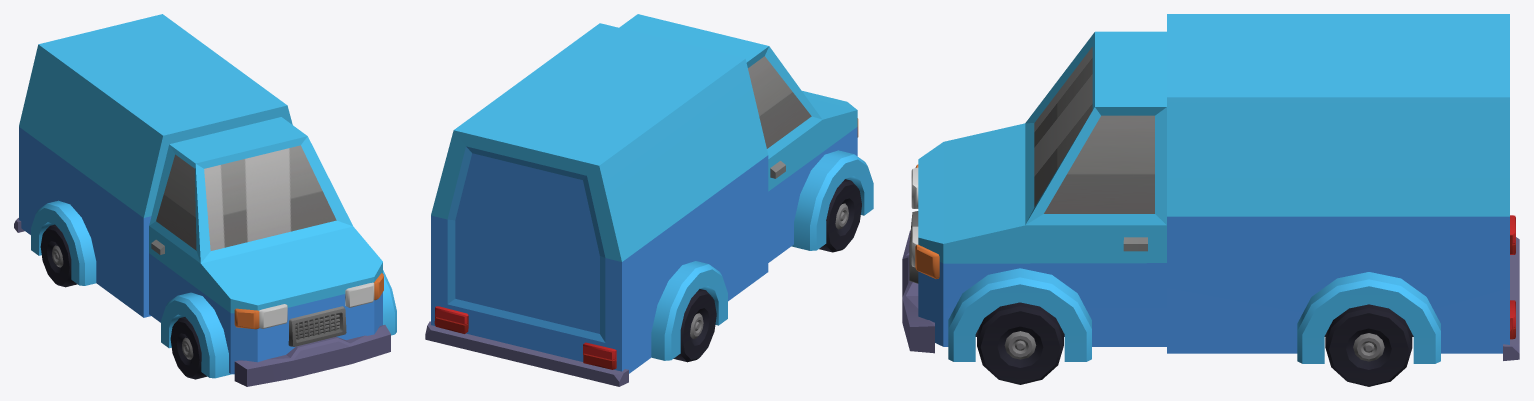
File: Van_12.fbx
The picture shows the model from 3 angles, left to right: view 1: azimuth 30°, elevation 25°; view 2: azimuth 150°, elevation 25°; view 3: azimuth 270°, elevation 25°; orthographic projection. The views are drawn at different scales.
Visible parts, largest first — view 1: Van_12, wheel_FR, wheel_BR; view 2: Van_12, wheel_BR, wheel_FR; view 3: Van_12, wheel_BL, wheel_FL.
Part boxes in pixels (box(x1,y1,x2,y2)): Van_12: box(14, 14, 396, 386); wheel_FR: box(170, 317, 207, 379); wheel_BR: box(40, 224, 77, 287); Van_12: box(425, 14, 873, 386); wheel_BR: box(673, 289, 716, 362); wheel_FR: box(819, 179, 861, 252); Van_12: box(902, 14, 1519, 363); wheel_BL: box(1325, 304, 1412, 386); wheel_FL: box(977, 302, 1063, 384).
Bounding box in the file's own units: 1.23 × 1.19 × 2.48.
